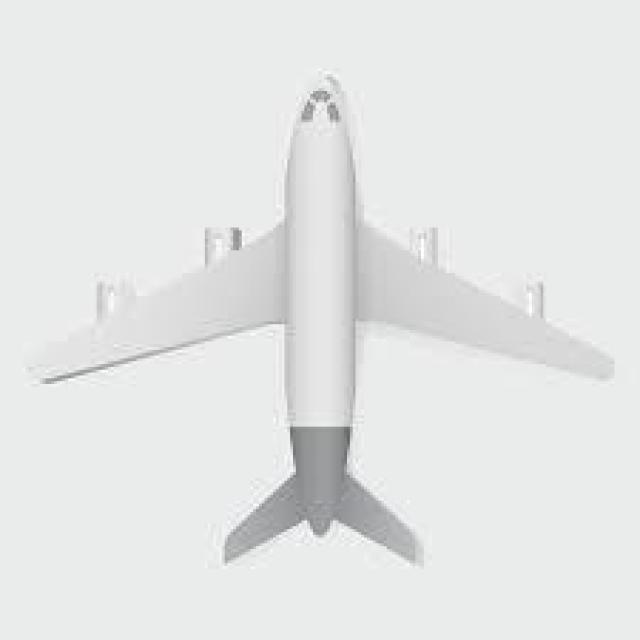MIL_MBT: (44, 102, 607, 558)
